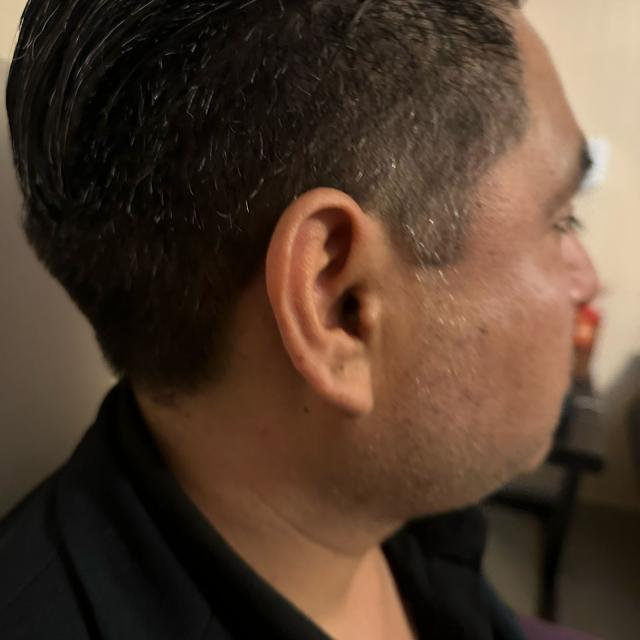ear: (265, 188, 378, 414)
